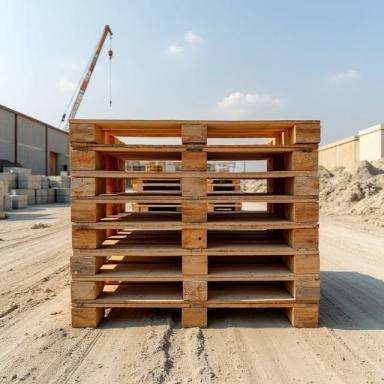pallet: (69, 119, 321, 148), (72, 224, 319, 253), (70, 199, 319, 227), (70, 251, 320, 278), (71, 277, 321, 304), (70, 147, 318, 174), (71, 173, 319, 200), (72, 303, 319, 329), (94, 256, 182, 277), (207, 229, 284, 242), (106, 228, 182, 240), (125, 178, 182, 192), (207, 179, 267, 192), (207, 203, 267, 216), (207, 160, 266, 172), (208, 255, 283, 264), (118, 161, 182, 171), (113, 136, 182, 145), (125, 203, 182, 212), (207, 138, 273, 144), (208, 281, 284, 286), (104, 281, 183, 285), (106, 178, 120, 194), (270, 203, 285, 217), (106, 153, 118, 170), (274, 155, 285, 171), (274, 178, 285, 194)
